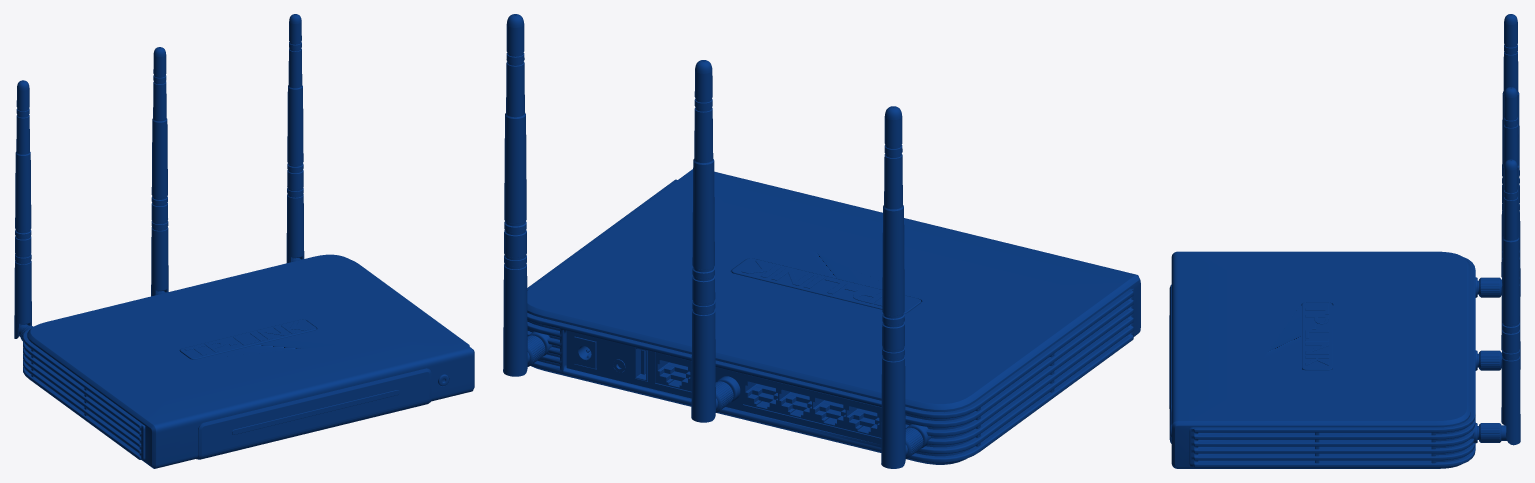
The model's file is router.obj.
The picture shows the model from 3 angles, left to right: view 1: azimuth 30°, elevation 25°; view 2: azimuth 150°, elevation 25°; view 3: azimuth 270°, elevation 25°; orthographic projection. The views are drawn at different scales.
Parts seen in each view (by area): view 1: Box002, Object001, Line010, Line008, Line009; view 2: Box002, Object001, Line010, Line009, Line008, Line004, Cylinder002; view 3: Box002, Object001, Line009, Line010, Line008, Cylinder003, Cylinder002, Cylinder004.
Boxes of the visible parts, x1,y1,x2,y2 form: Box002: (27,254,474,468); Object001: (23,259,469,461); Line010: (14,80,31,338); Line008: (151,47,168,296); Line009: (286,14,304,262); Box002: (527,169,1140,464); Object001: (527,179,1133,462); Line010: (881,106,905,468); Line009: (503,14,527,376); Line008: (691,60,715,422); Line004: (574,336,881,437); Cylinder002: (715,376,740,412); Box002: (1169,251,1470,468); Object001: (1189,257,1475,467); Line009: (1501,159,1520,445); Line010: (1501,14,1520,296); Line008: (1501,87,1520,369); Cylinder003: (1471,423,1506,443); Cylinder002: (1475,350,1501,370); Cylinder004: (1475,277,1501,297).
Size of the model in its own units: 197 by 155 by 166.
